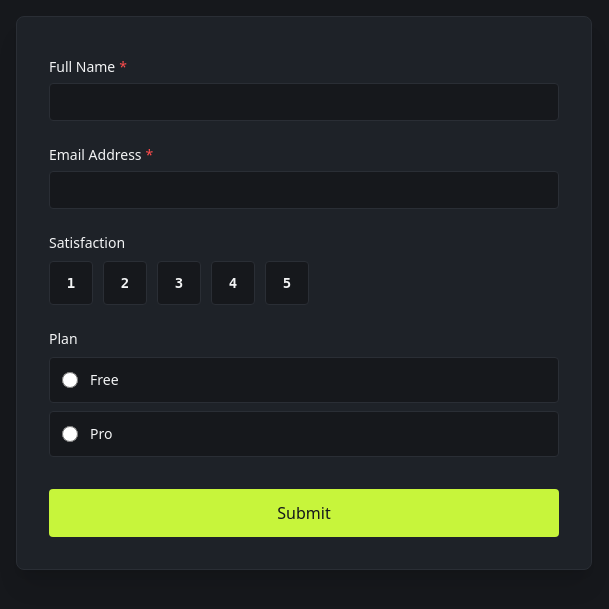
FormRenderer › validates email format before submitting
Type "Alice" into the field labelled "Full Name*".
click(304, 102); type("Alice")  # box [49,83,559,121]
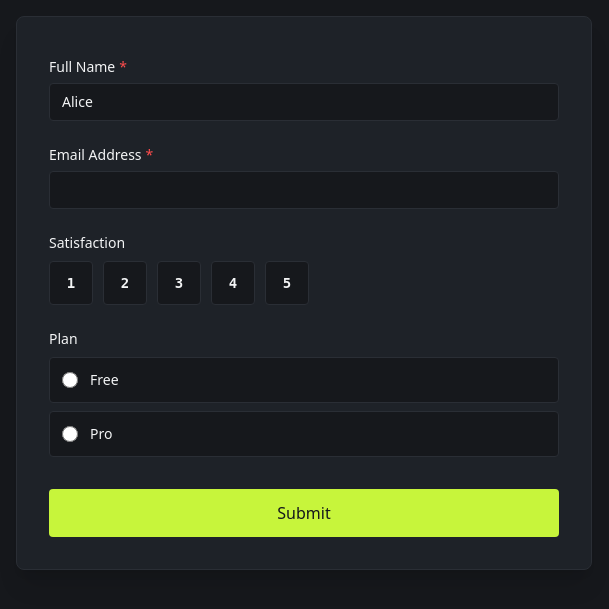
Type "not-an-email" into the field labelled "Email Address*".
click(304, 190); type("not-an-email")  # box [49,171,559,209]
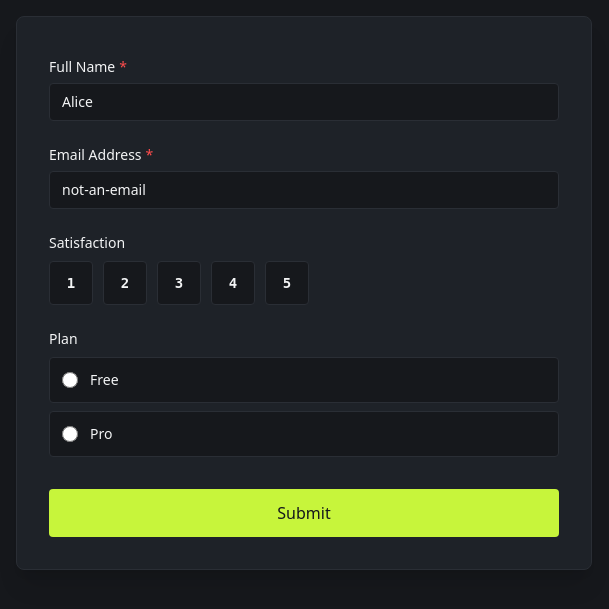
Click the button "Submit".
click(304, 513)  # box [49,489,559,537]
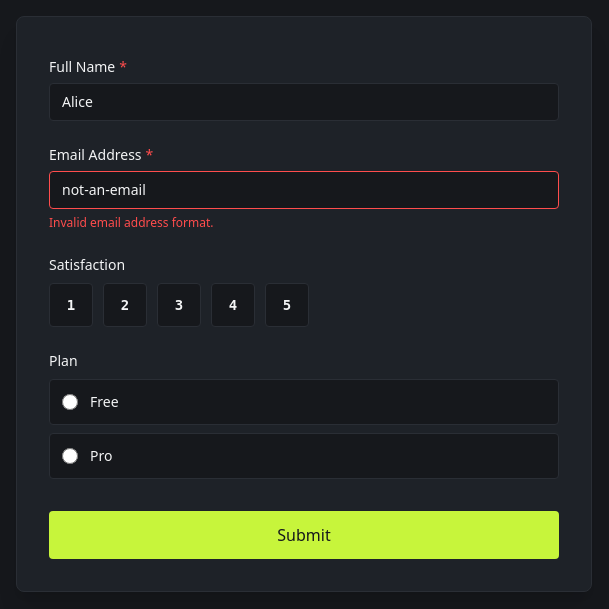
Expected: the text "Invalid email address format." is shown, [49,214,214,231]
